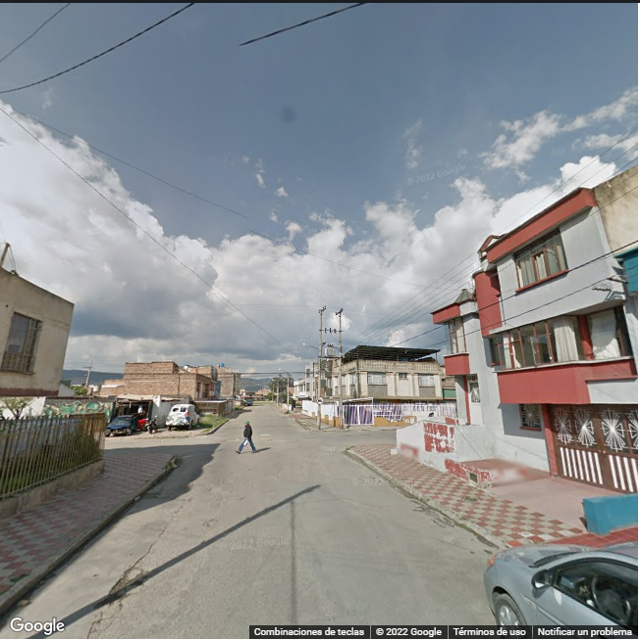D00: (132, 497, 184, 564), (303, 541, 349, 606)
D40: (103, 568, 143, 602)
